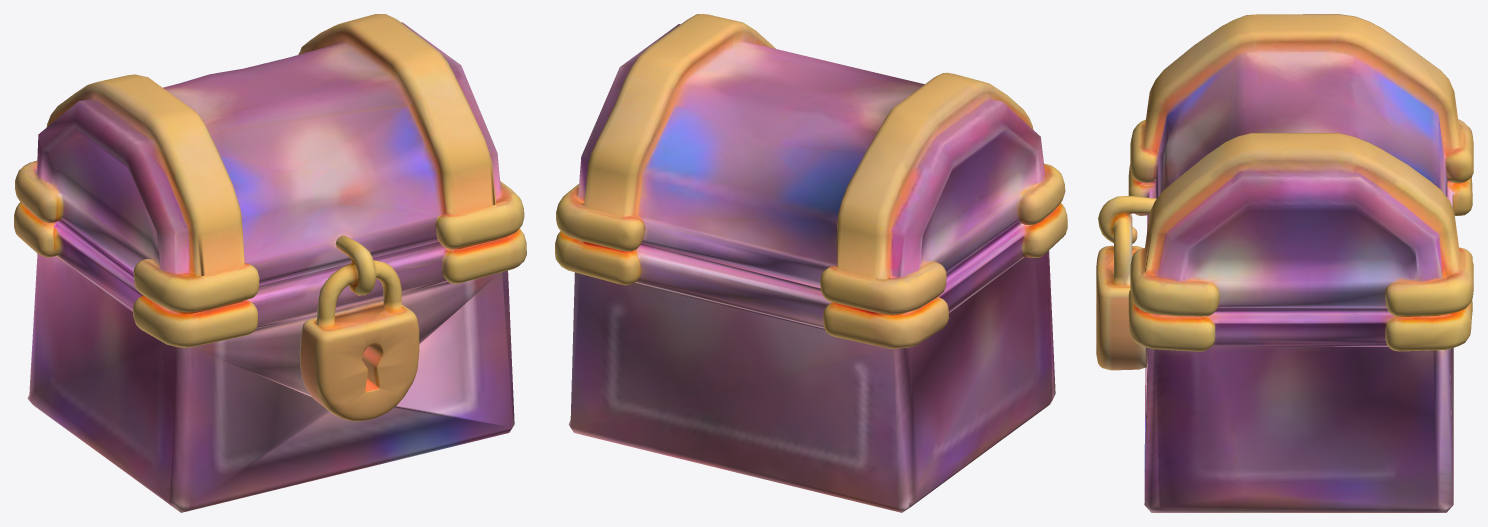
3 views of the same model, side by side, from view 1: azimuth 30°, elevation 25°; view 2: azimuth 150°, elevation 25°; view 3: azimuth 270°, elevation 25° (orthographic).
Size of the model in its own units: 2 by 1.82 by 1.77.
Materials: 1 (1 with a texture image).
